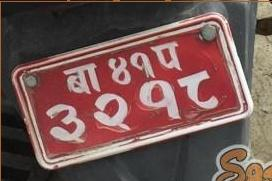1: (138, 79, 180, 120), (131, 51, 154, 77)
2: (94, 93, 130, 128)
3: (45, 103, 86, 143)
4: (108, 57, 132, 83)
8: (177, 71, 217, 107)
ba: (62, 62, 103, 95)
pa: (150, 40, 184, 70)
